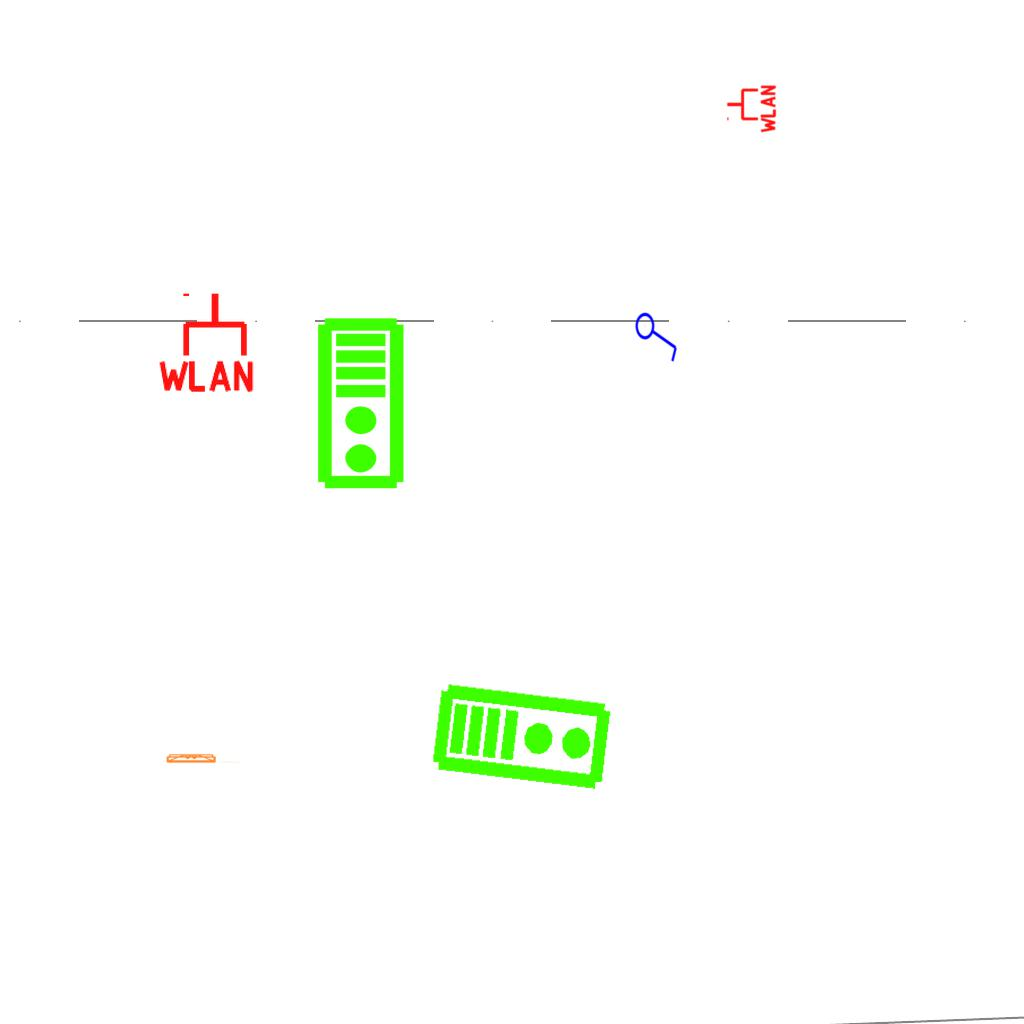Ausschalter: (634, 307, 682, 363)
Gegensprechanlage_mit_Video: (429, 677, 616, 793), (315, 316, 410, 492)
Sicherheitsleuchte_Wandeinbau: (164, 752, 243, 764)
WLAN: (154, 289, 258, 394), (724, 82, 778, 136)
